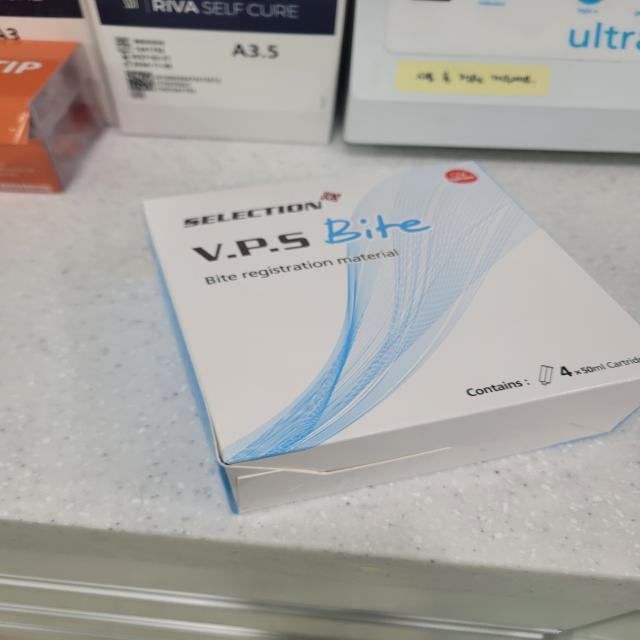impression: (115, 151, 640, 528)
